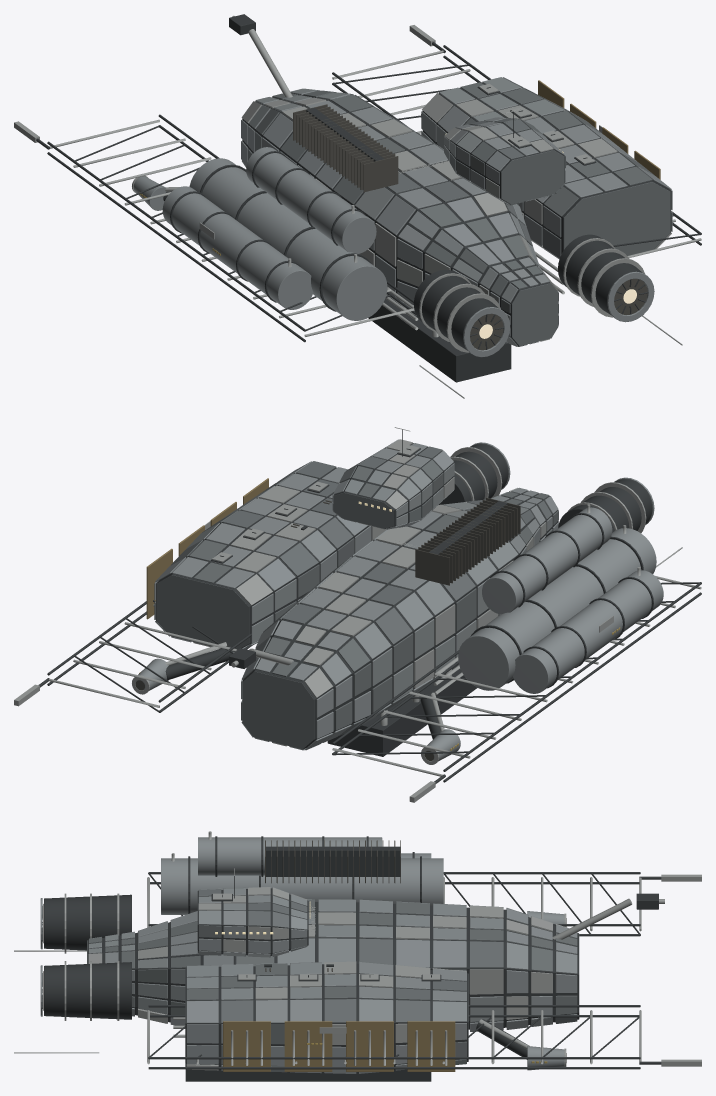
File: miner_anvil.glb
The picture shows the model from 3 angles, top to bottom: view 1: azimuth 30°, elevation 25°; view 2: azimuth 150°, elevation 25°; view 3: azimuth 270°, elevation 25°; orthographic projection. The views are drawn at different scales.
Visible parts, largest first — view 1: v3_deepforge_hull, v3_deepforge_dark, v3_deepforge_secondary, v3_deepforge_trim, v3_deepforge_ceramic, v3_deepforge_paint; view 2: v3_deepforge_hull, v3_deepforge_dark, v3_deepforge_secondary, v3_deepforge_trim, v3_deepforge_ceramic, v3_deepforge_paint; view 3: v3_deepforge_hull, v3_deepforge_dark, v3_deepforge_trim, v3_deepforge_secondary, v3_deepforge_paint, v3_deepforge_ceramic.
Boxes of the visible parts, x1=… form: v3_deepforge_hull: x1=133, y1=77, x2=672, y2=357; v3_deepforge_dark: x1=36, y1=14, x2=701, y2=382; v3_deepforge_secondary: x1=248, y1=82, x2=670, y2=346; v3_deepforge_trim: x1=14, y1=15, x2=701, y2=398; v3_deepforge_ceramic: x1=293, y1=104, x2=647, y2=350; v3_deepforge_paint: x1=538, y1=80, x2=660, y2=179; v3_deepforge_hull: x1=137, y1=439, x2=663, y2=761; v3_deepforge_dark: x1=38, y1=429, x2=701, y2=783; v3_deepforge_secondary: x1=154, y1=446, x2=558, y2=749; v3_deepforge_trim: x1=14, y1=427, x2=701, y2=802; v3_deepforge_ceramic: x1=135, y1=497, x2=520, y2=760; v3_deepforge_paint: x1=146, y1=478, x2=268, y2=619; v3_deepforge_hull: x1=40, y1=837, x2=577, y2=1073; v3_deepforge_dark: x1=42, y1=836, x2=661, y2=1081; v3_deepforge_trim: x1=14, y1=831, x2=701, y2=1070; v3_deepforge_secondary: x1=87, y1=887, x2=579, y2=1072; v3_deepforge_paint: x1=223, y1=1021, x2=455, y2=1071; v3_deepforge_ceramic: x1=43, y1=840, x2=566, y2=1062.
Bounding box in the file's own units: 36 × 19.99 × 55.95.
